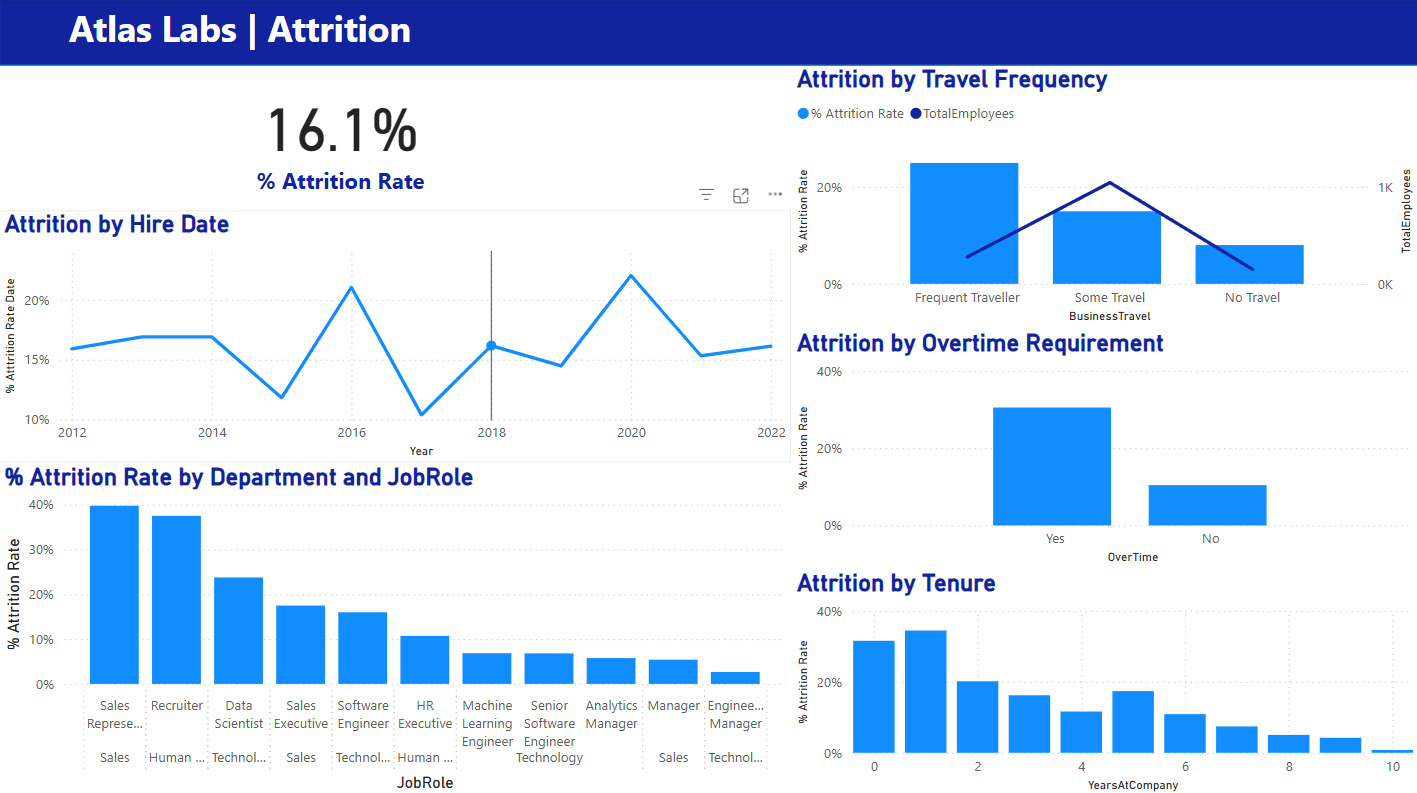

The dashboard page shown, as its layout file describes it:
{"tool":"powerbi","page":{"name":"Attrition","canvas":[1280,720],"ordinal":3},"visuals":[{"type":"card","fields":{"Values":["_Measures.% Attrition Rate"]},"box":[194.3,60,228.6,130],"z":0},{"type":"columnChart","title":"% Attrition Rate by Department and JobRole","fields":{"Category":["DimEmployee.Department","DimEmployee.JobRole"],"Y":["_Measure.% Attrition Rate"]},"box":[0,418.6,714.3,301.4],"z":1000},{"type":"lineChart","title":"Attrition by Hire Date","fields":{"Y":["_Measure.% Atttrition Rate Date"],"Category":["DimDate.Date.Variation.Date Hierarchy.Year"]},"box":[0,190,714.3,228.6],"z":2000},{"type":"lineStackedColumnComboChart","title":"Attrition by Travel Frequency","fields":{"Category":["DimEmployee.BusinessTravel"],"Y":["_Measure.% Attrition Rate"],"Y2":["_Measure.TotalEmployees"]},"box":[714.3,60,565.7,237.1],"z":3000},{"type":"columnChart","title":"Attrition by Overtime Requirement","fields":{"Category":["DimEmployee.OverTime"],"Y":["_Measure.% Attrition Rate"]},"box":[714.3,297.1,565.7,217.1],"z":4000},{"type":"columnChart","title":"Attrition by Tenure","fields":{"Y":["_Measure.% Attrition Rate"],"Category":["DimEmployee.YearsAtCompany"]},"box":[714.3,514.3,565.7,205.7],"z":5000},{"type":"shape","box":[0,0,1280,60],"z":6000},{"type":"textbox","box":[0,0,434.3,60],"z":7000}]}

Visuals, with their boxes in screenshot pixels (x1, y1, x2, y2), scaled from the page's 1280x720 canvas onto the 1417x793 screenshot:
card - _Measures.% Attrition Rate: box(215, 66, 468, 209)
"% Attrition Rate by Department and JobRole" columnChart: box(0, 461, 791, 792)
"Attrition by Hire Date" lineChart: box(0, 209, 791, 461)
"Attrition by Travel Frequency" lineStackedColumnComboChart: box(791, 66, 1416, 327)
"Attrition by Overtime Requirement" columnChart: box(791, 327, 1416, 566)
"Attrition by Tenure" columnChart: box(791, 566, 1416, 792)
shape: box(0, 0, 1416, 66)
textbox: box(0, 0, 481, 66)
